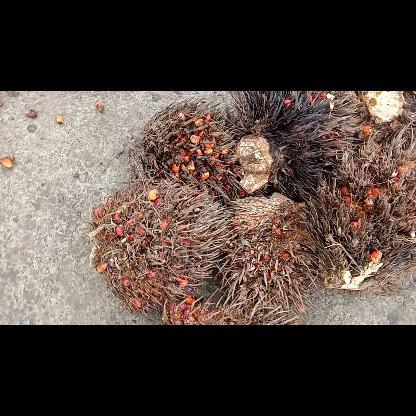Terlalu masak: (90, 179, 226, 311), (306, 124, 414, 290), (226, 91, 362, 199), (217, 192, 319, 310), (136, 99, 242, 196), (162, 290, 298, 324), (356, 90, 414, 144)
